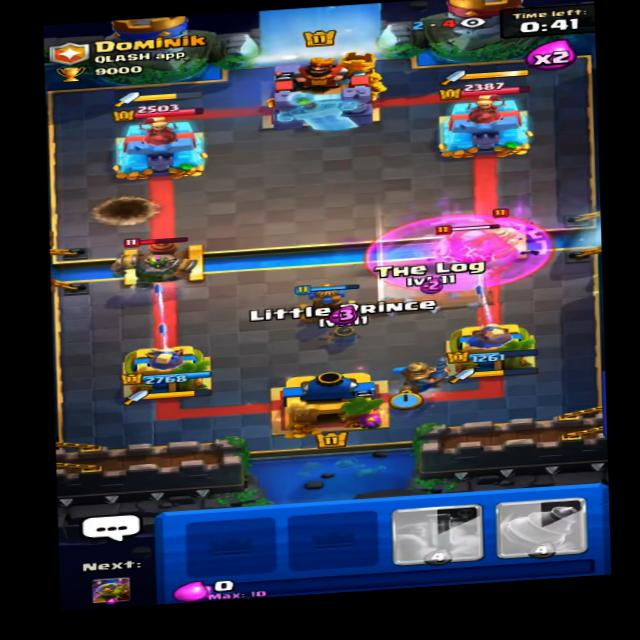giant: (419, 218, 526, 278)
goblin-machine: (107, 227, 207, 293)
prince: (473, 209, 532, 258)
